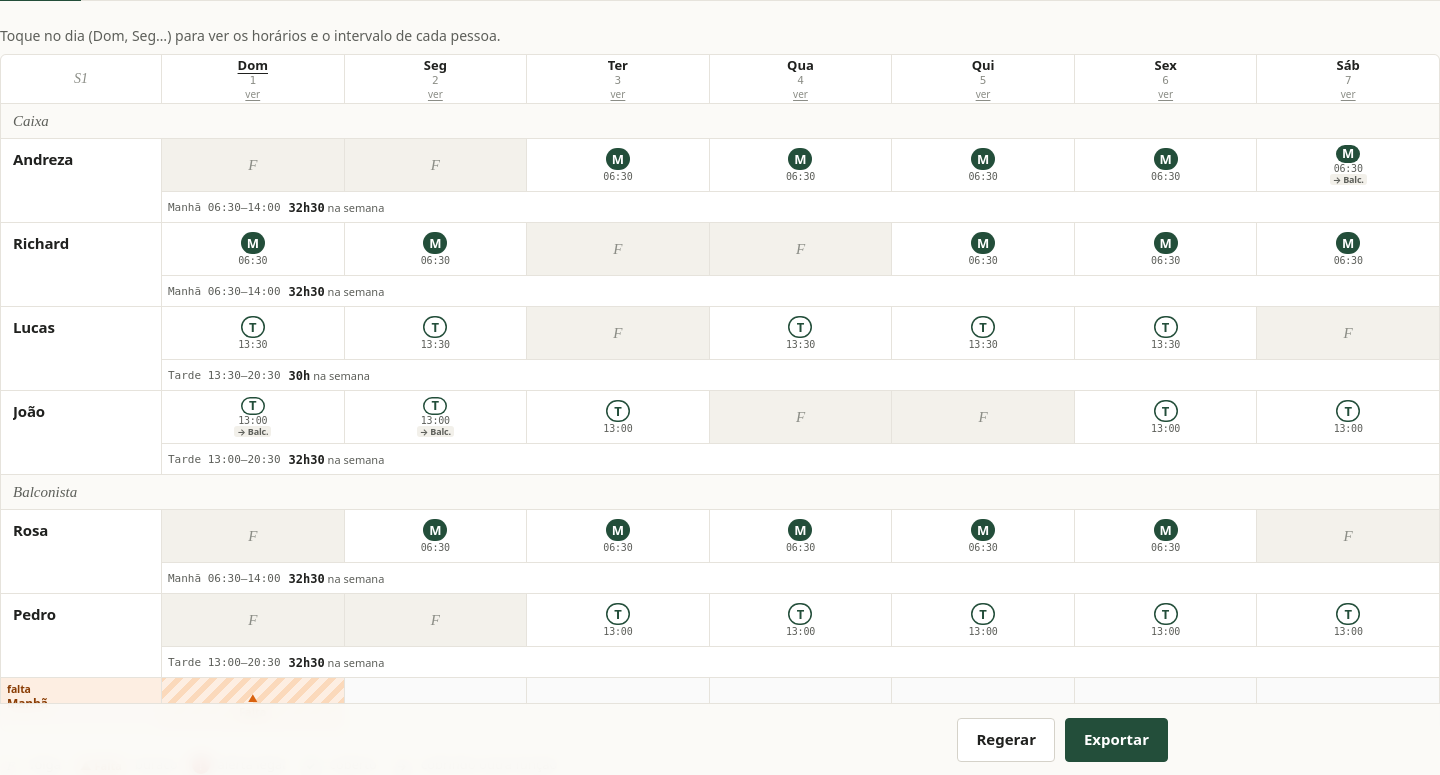
Scenario: ScheduleView › AE1: mudar a Rosa para 05:45–13:30 em "Todos os dias" atualiza só as horas dela
The width and height of the screenshot is (1440, 775).
(page scrolled)
Click the 10th button "M 06:30" at {"x": 435, "y": 536}, box [345, 510, 526, 562]
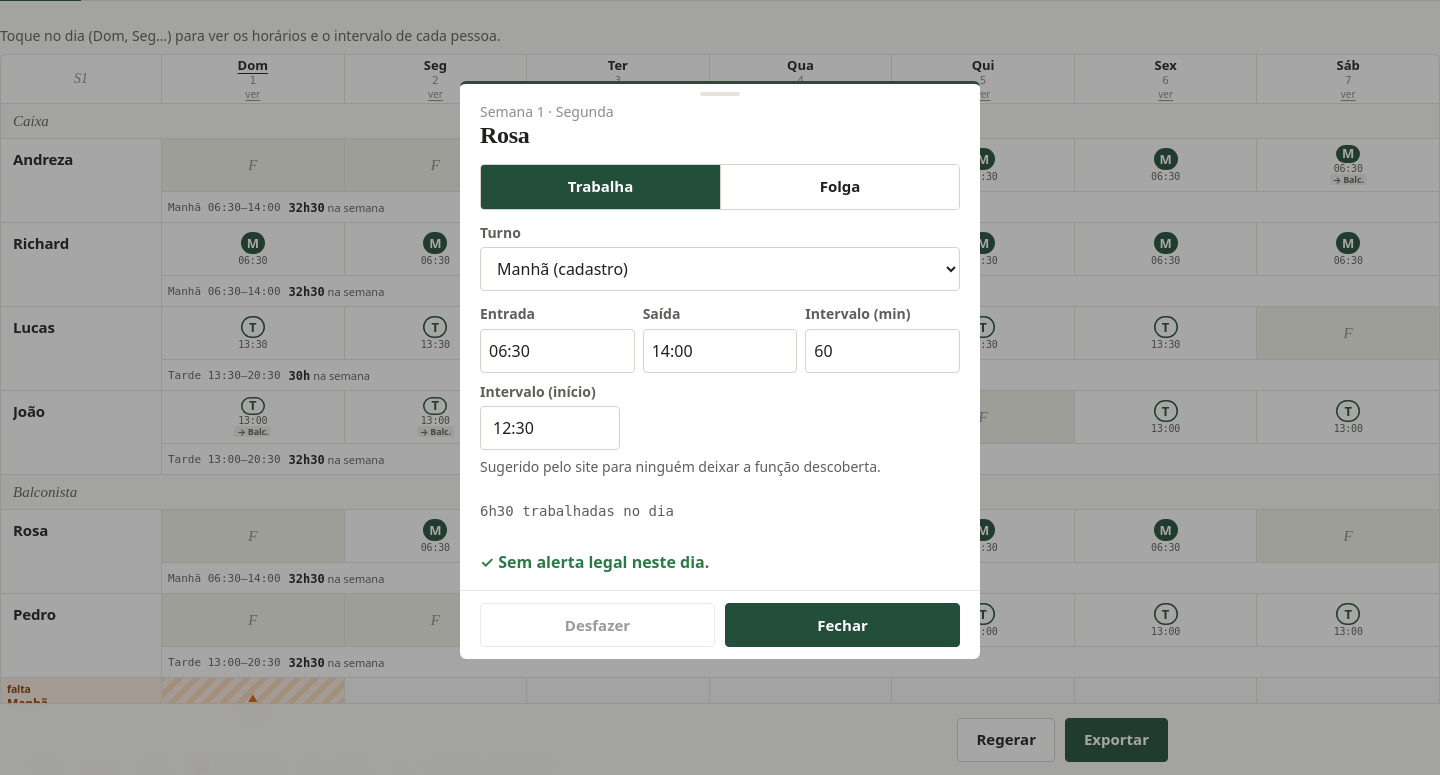
Replace the text in the field labelled "Entrada" with "05:45" at {"x": 557, "y": 351}, box [480, 329, 635, 373]
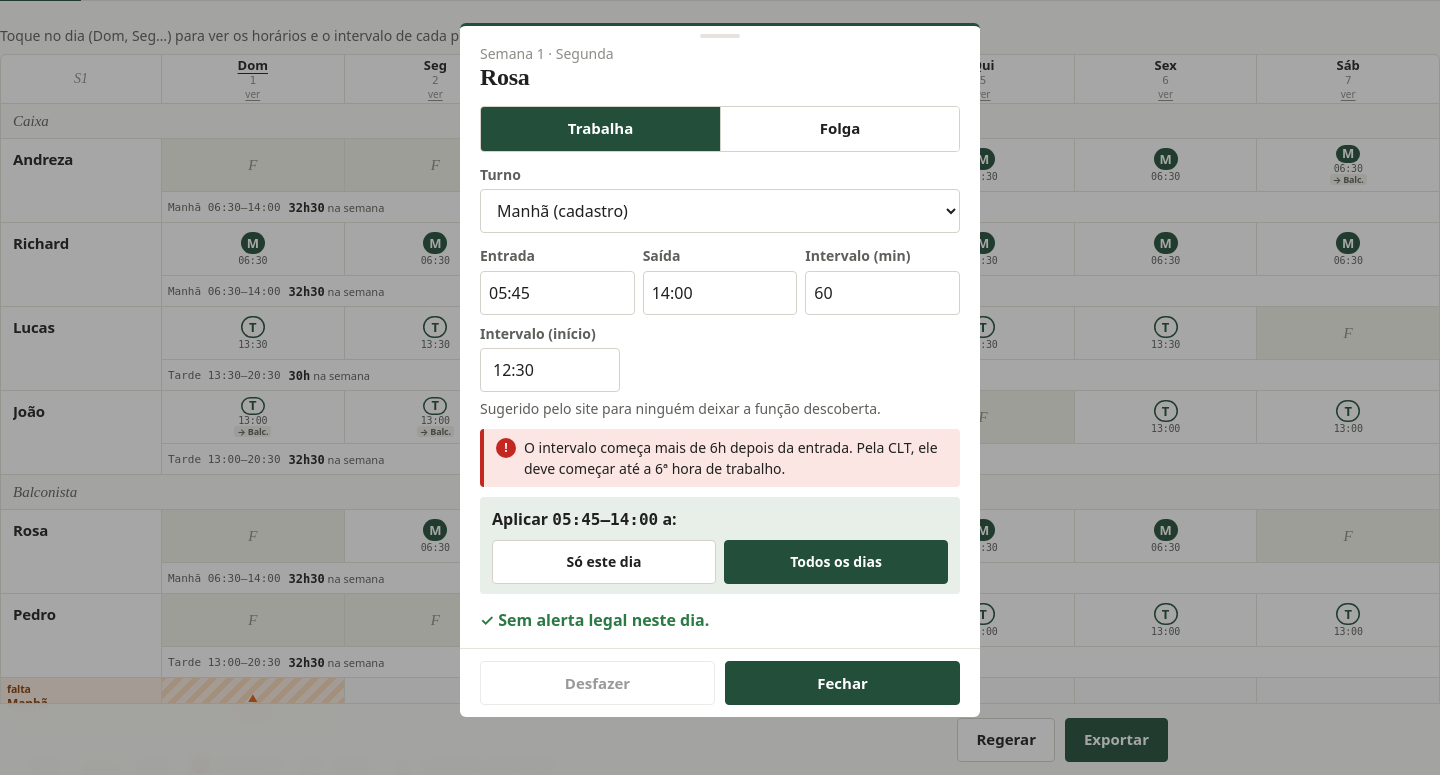
Replace the text in the field labelled "Saída" with "13:30" at {"x": 720, "y": 293}, box [643, 271, 797, 315]
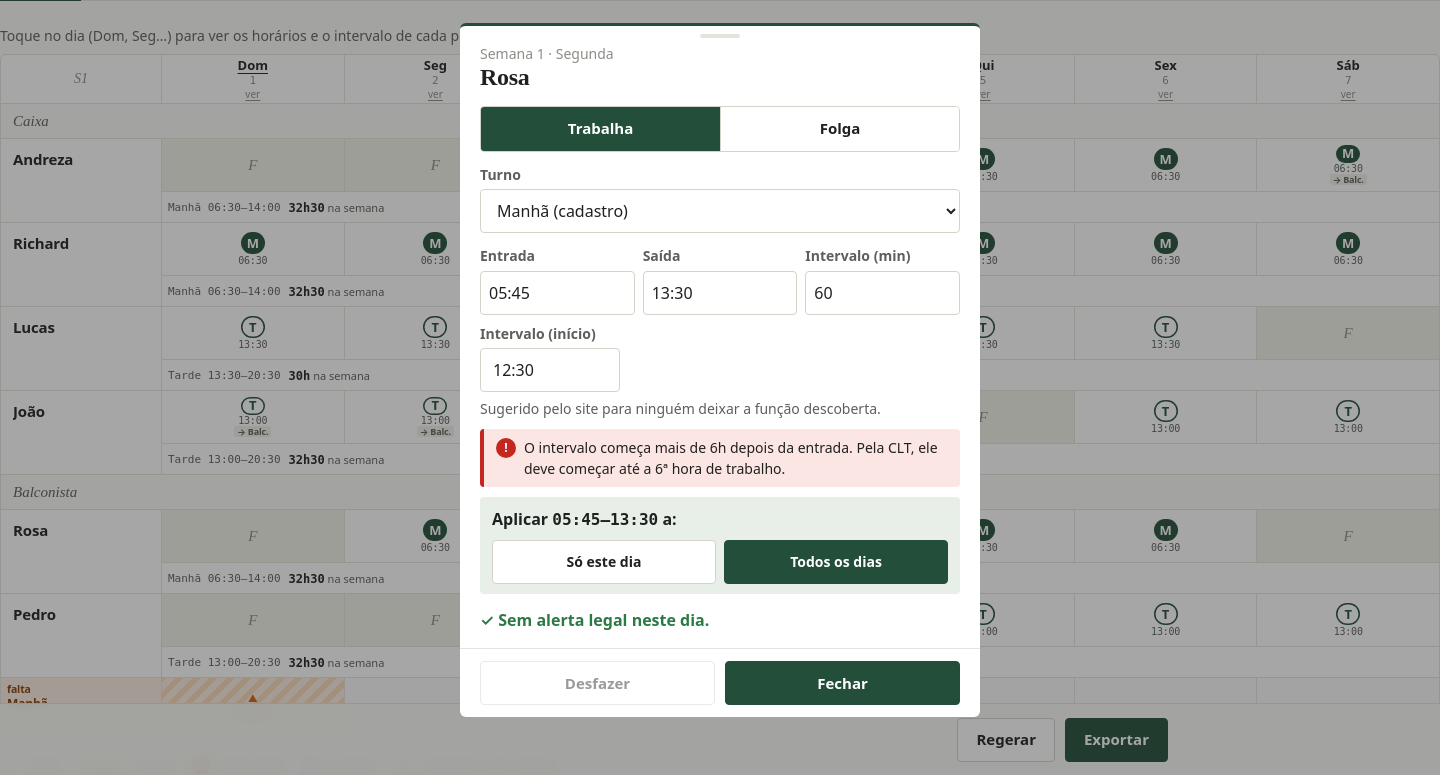
Click the button "Todos os dias" at {"x": 836, "y": 562}, box [724, 540, 948, 584]
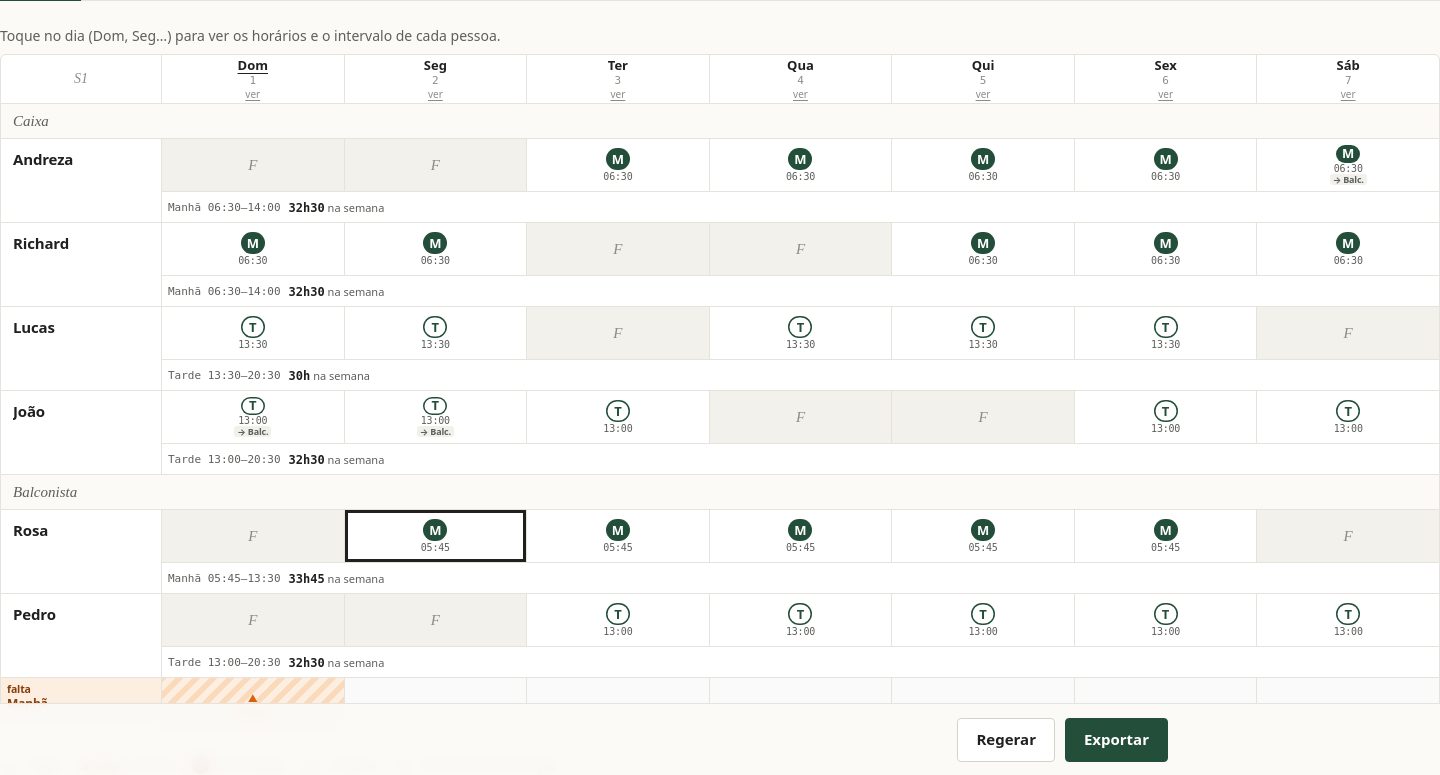
expect the text with class "mono" below "Andreza" reads "32h30": met, box [289, 200, 325, 214]
expect the text with class "mono" reads "33h45": met, box [289, 572, 325, 586]
